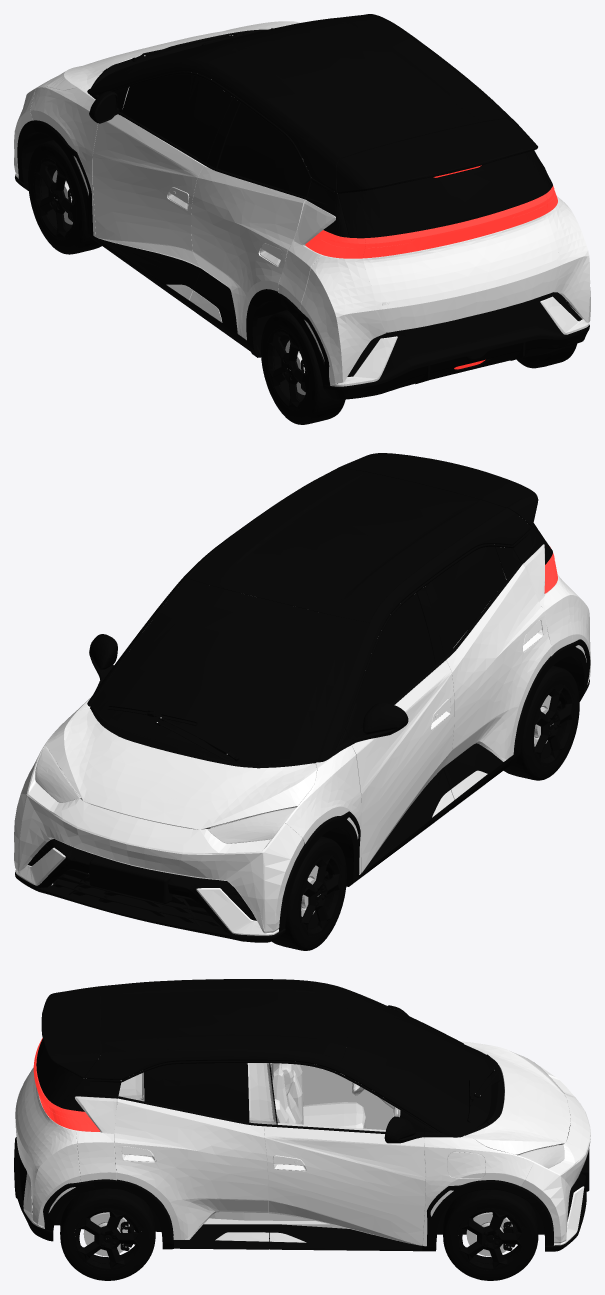
The model's file is seagull.glb.
3 renders of one model, top to bottom at view 1: azimuth 30°, elevation 25°; view 2: azimuth 150°, elevation 25°; view 3: azimuth 270°, elevation 25°, orthographic. The views are drawn at different scales.
Parts seen in each view (by area): view 1: seagull; view 2: seagull; view 3: seagull.
Part boxes in pixels (x1,y1,x2,y2): seagull: (14, 14, 590, 424); seagull: (14, 453, 590, 950); seagull: (14, 979, 590, 1280).
Size of the model in its own units: 1.96 by 1.57 by 3.78.
